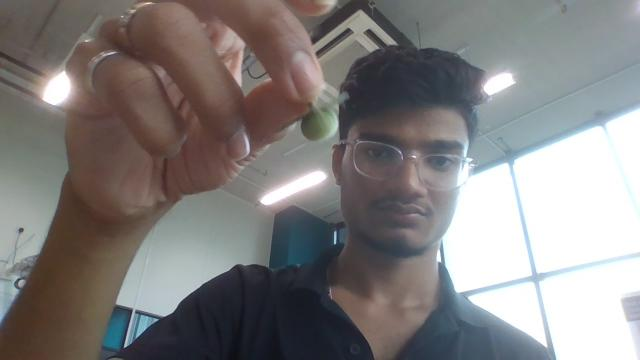Fruit Maturation: (300, 102, 338, 142)
